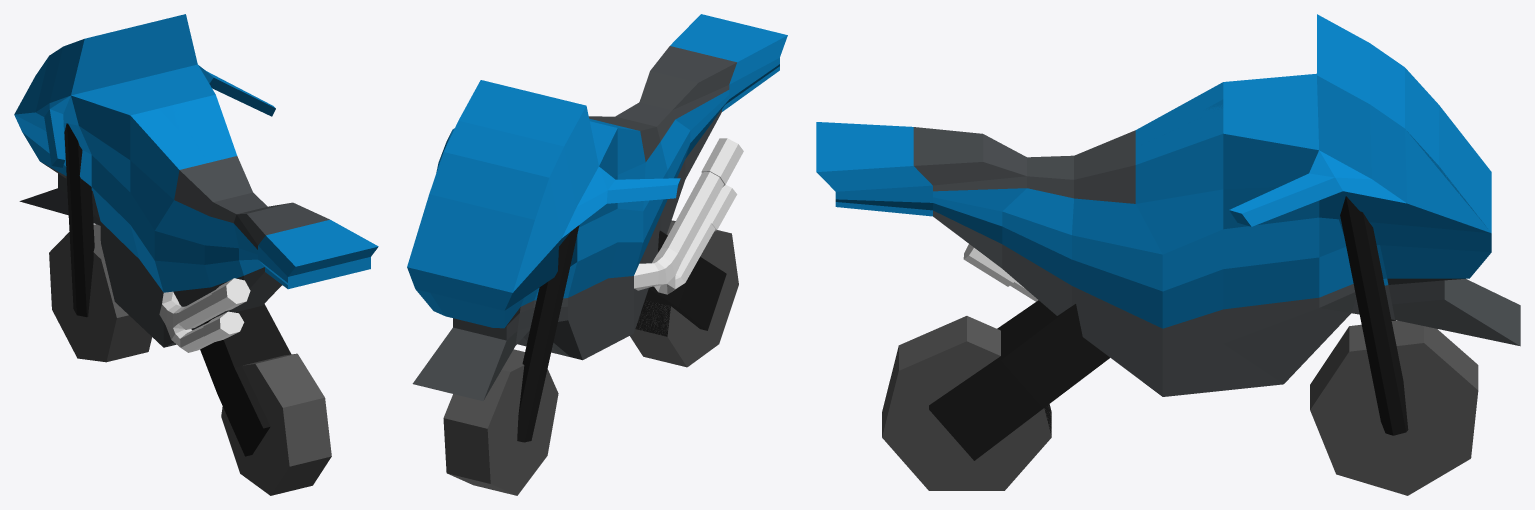
File: motorbike.fbx
3 renders of one model, left to right at view 1: azimuth 30°, elevation 25°; view 2: azimuth 150°, elevation 25°; view 3: azimuth 270°, elevation 25°, orthographic. The views are drawn at different scales.
Parts seen in each view (by area): view 1: Cylinder.003, Cylinder, Cylinder.001; view 2: Cylinder.003, Cylinder.001, Cylinder; view 3: Cylinder.003, Cylinder, Cylinder.001.
Boxes of the visible parts, box(x1,y1,x2,y2) form: Cylinder.003: box(14, 14, 378, 352); Cylinder: box(200, 304, 331, 495); Cylinder.001: box(49, 123, 151, 362); Cylinder.003: box(407, 14, 787, 400); Cylinder.001: box(443, 225, 579, 495); Cylinder: box(630, 220, 738, 367); Cylinder.003: box(816, 14, 1520, 396); Cylinder: box(882, 300, 1109, 490); Cylinder.001: box(1310, 196, 1478, 495).
Size of the model in its own units: 1.07 by 1.65 by 2.4.
